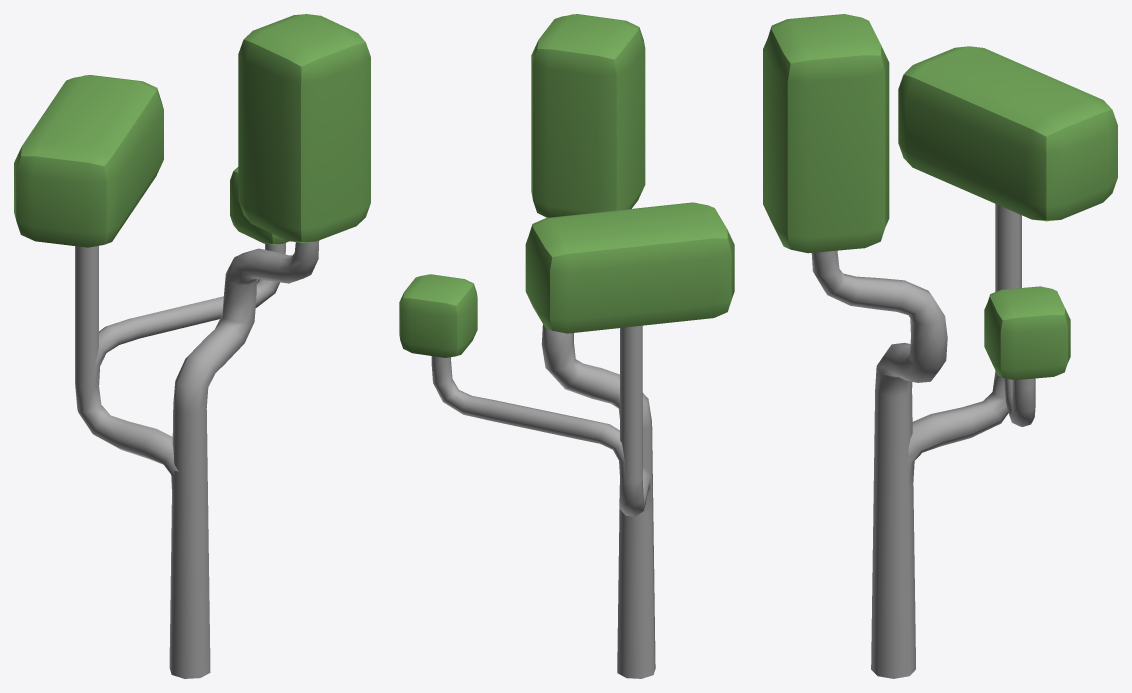
File: foliage_03.fbx
3 views of the same model, side by side, from view 1: azimuth 30°, elevation 25°; view 2: azimuth 150°, elevation 25°; view 3: azimuth 270°, elevation 25° (orthographic). The views are drawn at different scales.
Parts seen in each view (by area): view 1: foliage_03; view 2: foliage_03; view 3: foliage_03.
Part boxes in pixels (left/top/right/bottom): foliage_03: left=14, top=14, right=370, bottom=678; foliage_03: left=399, top=14, right=734, bottom=678; foliage_03: left=763, top=14, right=1117, bottom=678.
Size of the model in its own units: 8.27 by 15.81 by 7.44.
